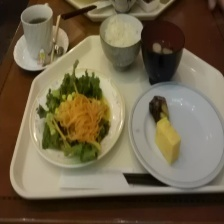rice: (101, 16, 142, 48)
